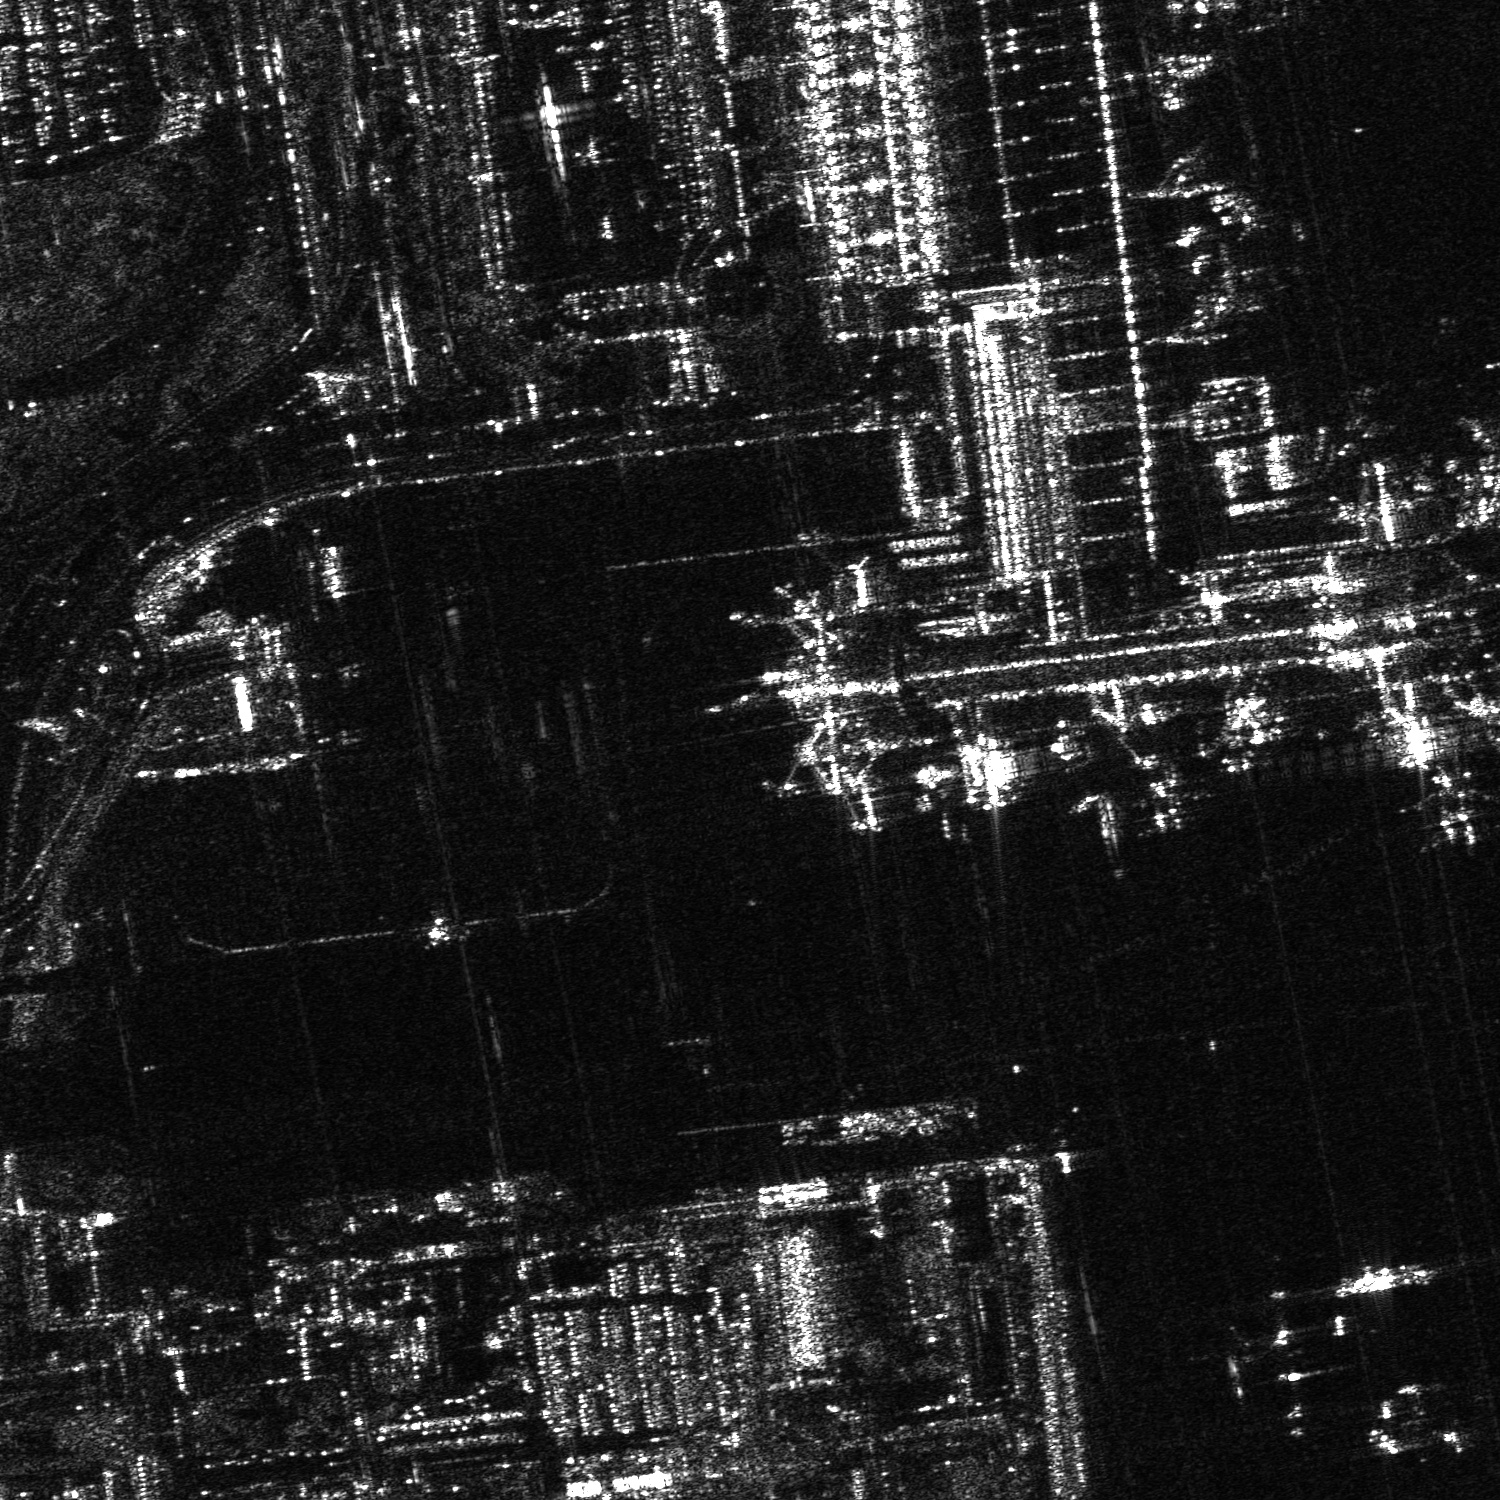Boeing737: (1401, 762, 1499, 852)
